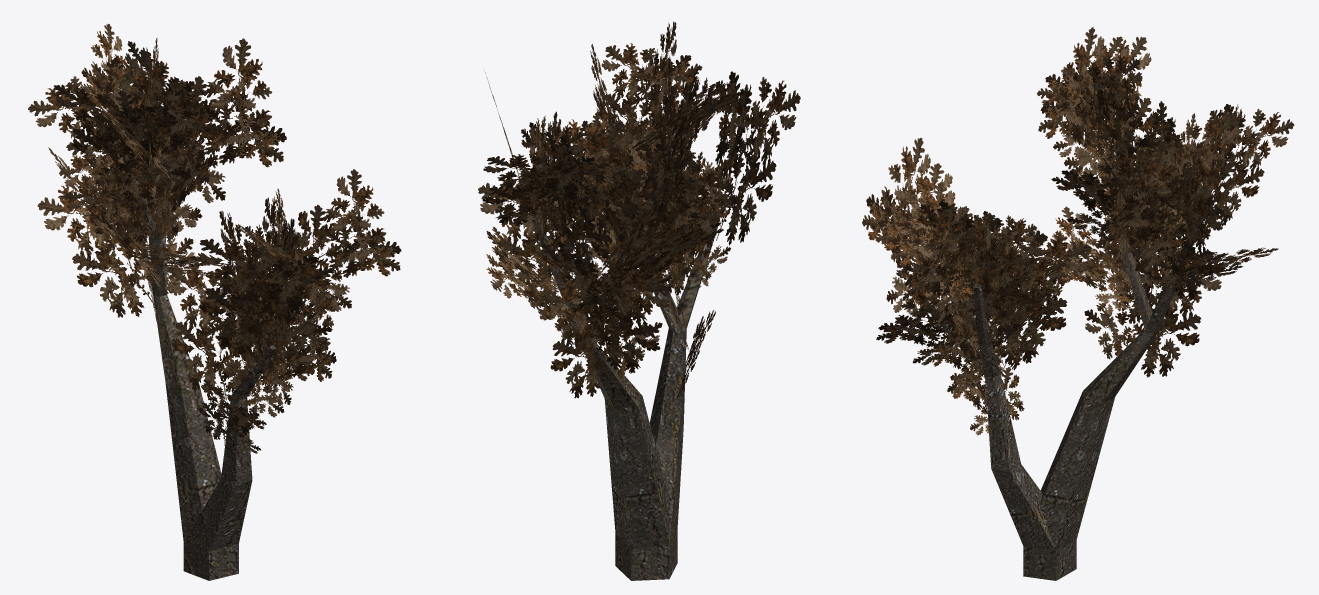
File: tree07.fbx
3 renders of one model, left to right at view 1: azimuth 30°, elevation 25°; view 2: azimuth 150°, elevation 25°; view 3: azimuth 270°, elevation 25°, orthographic. The views are drawn at different scales.
Visible parts, largest first — view 1: treee07; view 2: treee07; view 3: treee07.
Boxes of the visible parts, box(x1,y1,x2,y2) form: treee07: box(28, 23, 401, 580); treee07: box(478, 21, 800, 580); treee07: box(862, 27, 1294, 580).
Size of the model in its own units: 3629 by 6890 by 5495.
